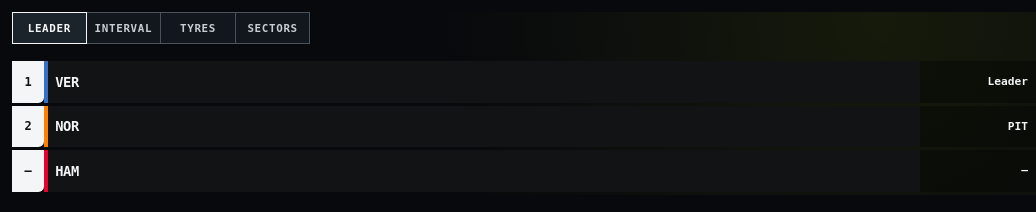
Scenario: shows an explicit unavailable fallback for missing or unrecognized tyre data
Click the button "Tyres": (198, 28) [161,12,236,44]
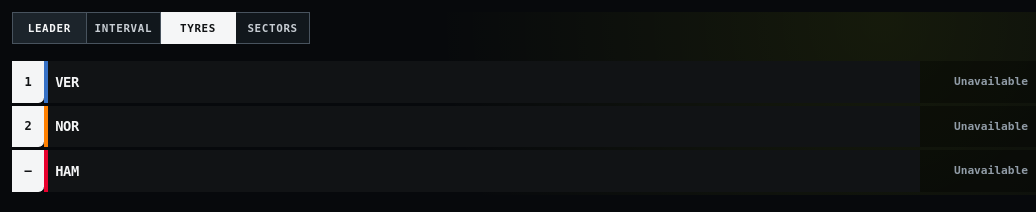
Expected: the cell named "Tyres unavailable" reads "Unavailable", [954,75,1028,88]
